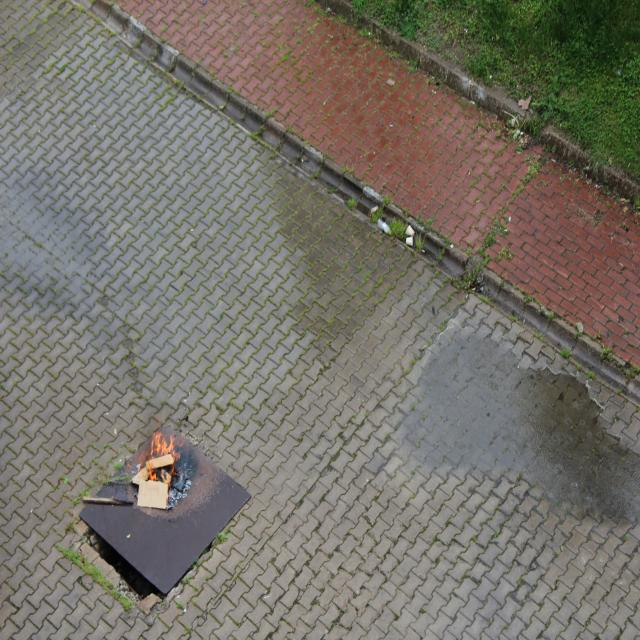fire: (145, 426, 179, 488)
